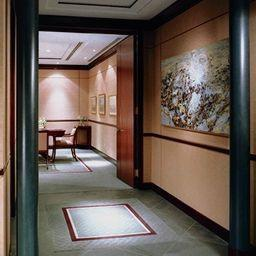Puerta: (117, 43, 137, 183)
